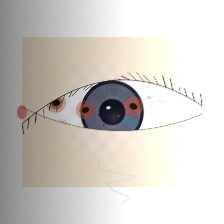foreign_body_visible: (113, 90, 153, 123)
